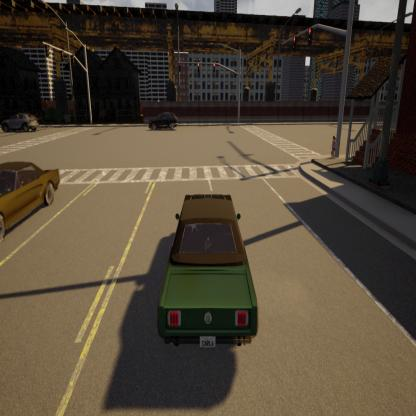Cars: (148, 172, 263, 360), (0, 156, 63, 243), (0, 107, 41, 136), (141, 107, 181, 133)
Pedestrian: (329, 133, 339, 160)
